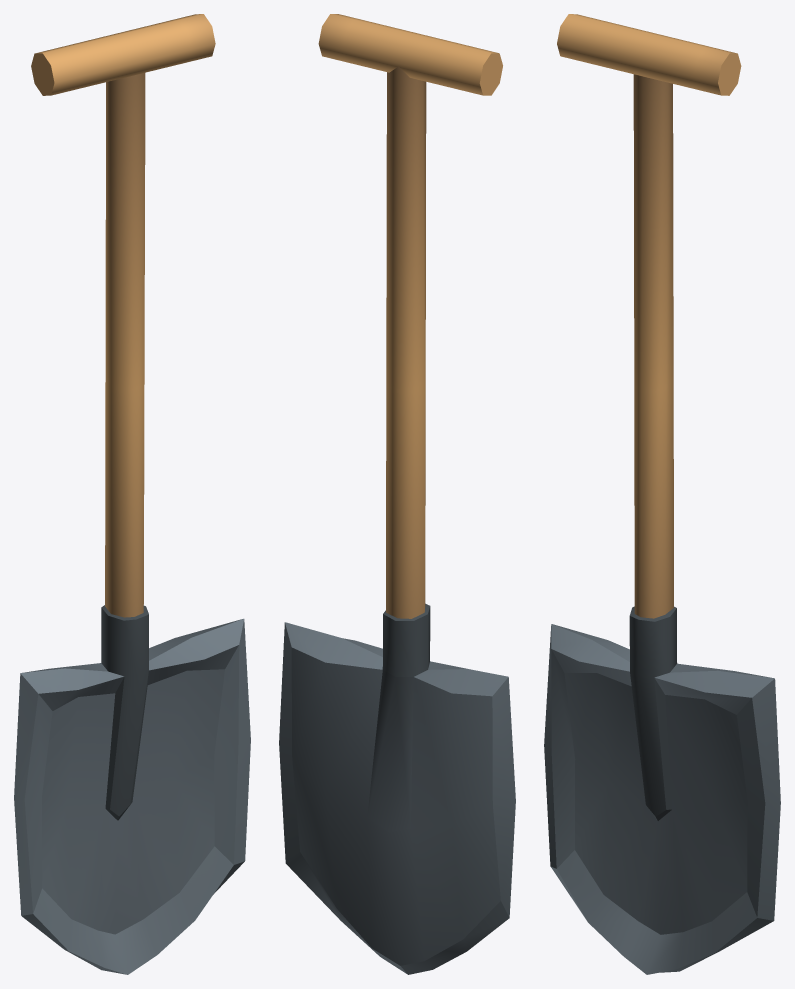
File: Shovel.fbx
3 renders of one model, left to right at view 1: azimuth 30°, elevation 25°; view 2: azimuth 150°, elevation 25°; view 3: azimuth 330°, elevation 25°, orthographic.
Visible parts, largest first — view 1: Shovel; view 2: Shovel; view 3: Shovel.
Part boxes in pixels (x1=…): Shovel: x1=14, y1=14, x2=250, y2=974; Shovel: x1=279, y1=14, x2=515, y2=974; Shovel: x1=544, y1=14, x2=780, y2=974.
Bounding box in the file's own units: 0.8544 × 3.24 × 0.2078.
